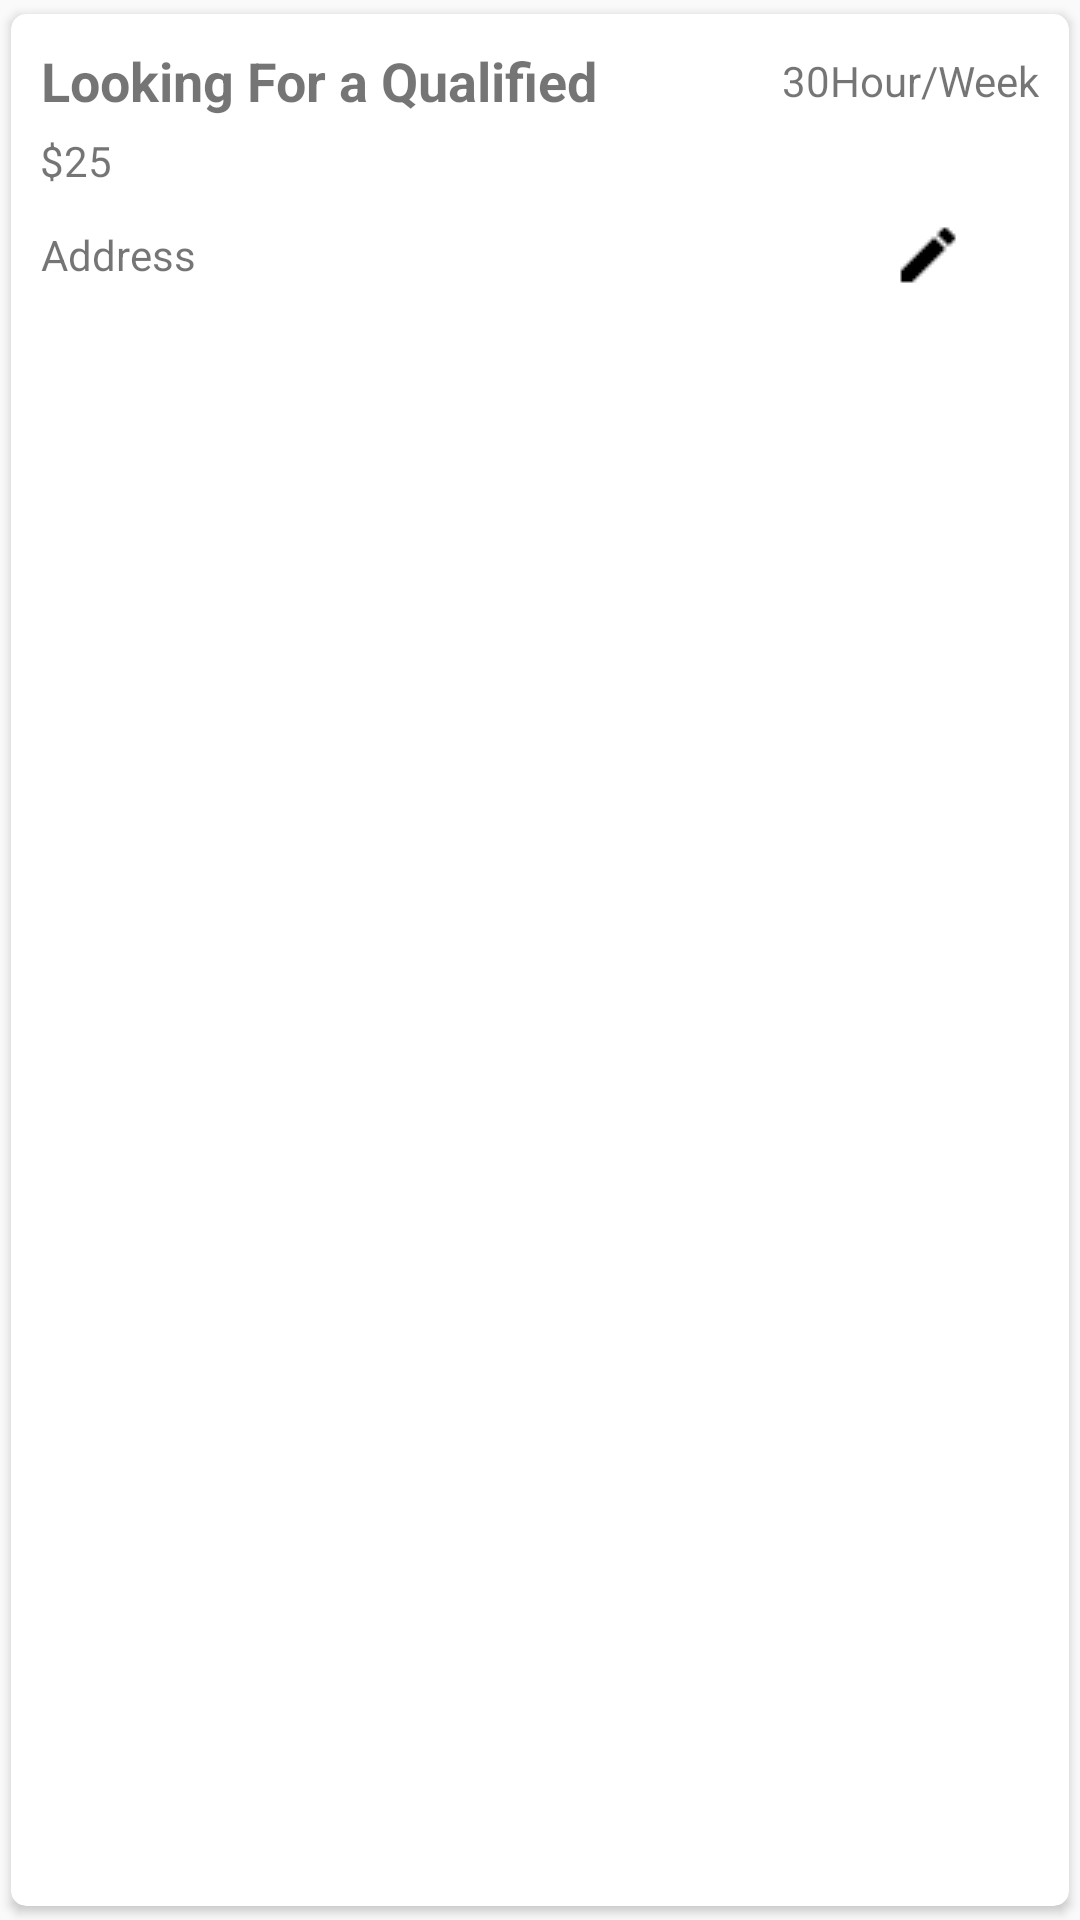

Icons on this 1080*1920 Android screen, each with the point to tap as point (x, y):
edit: point (928, 255)
